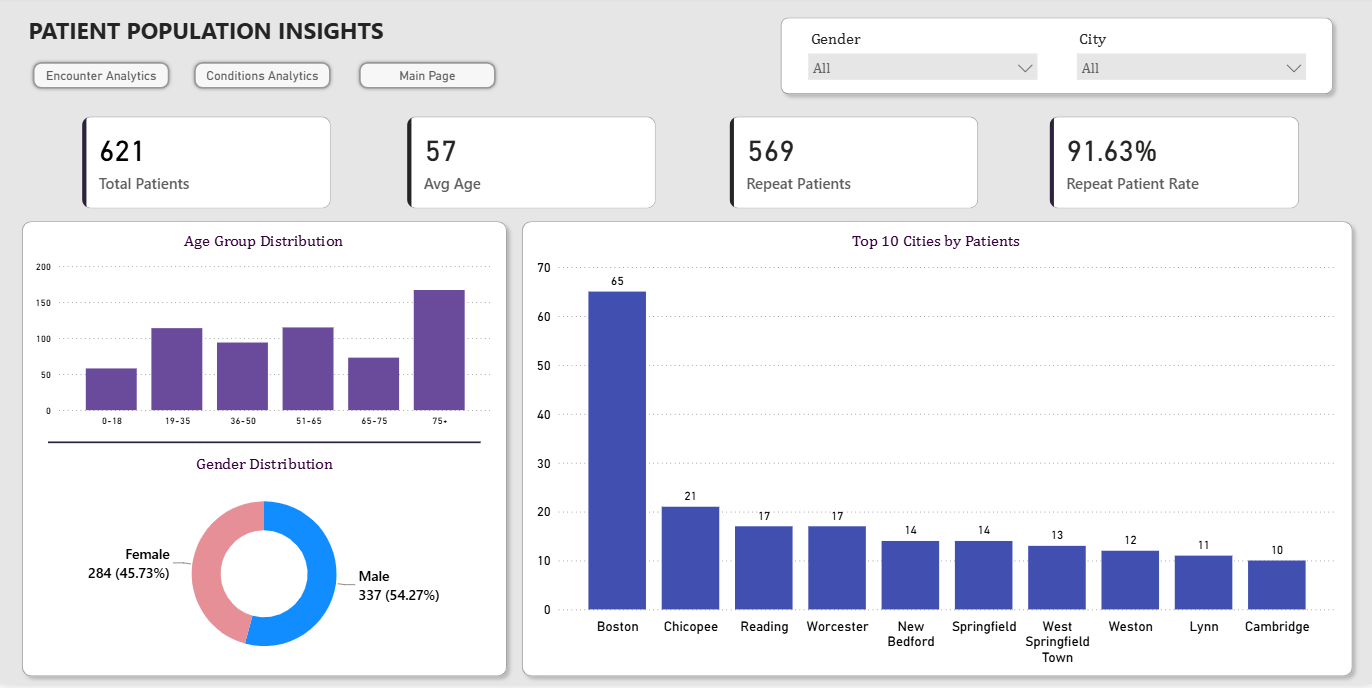

The page's visual inventory and layout, read from the dashboard file:
{"tool":"powerbi","page":{"name":"Patients","canvas":[1600,800],"ordinal":1},"visuals":[{"type":"cardVisual","fields":{"Data":["Measures_Table.Total Patients"]},"box":[93.1,135.3,299.6,117.8],"z":0},{"type":"actionButton","box":[37,72.7,167.2,39.2],"z":1000,"group":"g2"},{"type":"shape","box":[600.7,252.3,983.8,547.1],"z":1000},{"type":"actionButton","box":[225,72.7,167.2,39.2],"z":2000,"group":"g2"},{"type":"cardVisual","fields":{"Data":["Measures_Table.Avg Age"]},"box":[471.3,135,299.6,117.8],"z":2000},{"type":"shape","box":[901.4,15.7,660,107.1],"z":3000},{"type":"actionButton","box":[417,72.7,167.2,39.2],"z":3000,"group":"g2"},{"type":"shape","box":[18.9,252.3,581.8,547.1],"z":3000,"group":"g1"},{"type":"cardVisual","fields":{"Data":["Measures_Table.Repeat Patients"]},"box":[846.5,135.3,299.6,117.8],"z":4000},{"type":"slicer","fields":{"Values":["Patient.Gender"]},"box":[931.4,32.9,287.1,78.6],"z":5000},{"type":"cardVisual","fields":{"Data":["Measures_Table.Repeat Patient Rate"]},"box":[1218,135.2,300,117.7],"z":6000},{"type":"slicer","fields":{"Values":["Patient.City"]},"box":[1244.3,32.9,287.1,78.6],"z":7000},{"type":"clusteredColumnChart","title":"Age Group Distribution","fields":{"Category":["Age Group Bucket.Age Group"],"Y":["Measures_Table.Age-wise Patient Count"]},"box":[37.8,272.8,542.4,234.9],"z":8000,"group":"g1"},{"type":"clusteredColumnChart","title":"Top 10 Cities by Patients","fields":{"Category":["Patient.City"],"Y":["Measures_Table.Total Patients"]},"box":[620.6,273.3,940.4,511.6],"z":8000},{"type":"textbox","box":[30,15.7,850,70],"z":9000},{"type":"shape","box":[58.3,507.7,503,20.5],"z":9000,"group":"g1"},{"type":"group","id":"g1","title":"Group 2","box":[18.9,252.3,581.8,547.1],"z":10000},{"type":"donutChart","title":"Gender Distribution","fields":{"Category":["Patient.Gender"],"Y":["Measures_Table.Total Patients"]},"box":[39.4,531.4,540.8,252.3],"z":10000,"group":"g1"},{"type":"group","id":"g2","title":"Group 3","box":[37,72.7,547.2,39.2],"z":11000}]}

Visuals, with their boxes in screenshot pixels (x1, y1, x2, y2), scaled from the page's 1600x800 canvas onto the 1372x688 screenshot:
cardVisual - Measures_Table.Total Patients: crop(80, 116, 337, 218)
actionButton: crop(32, 63, 175, 96)
shape: crop(515, 217, 1359, 687)
actionButton: crop(193, 63, 336, 96)
cardVisual - Measures_Table.Avg Age: crop(404, 116, 661, 217)
shape: crop(773, 14, 1339, 106)
actionButton: crop(358, 63, 501, 96)
shape: crop(16, 217, 515, 687)
cardVisual - Measures_Table.Repeat Patients: crop(726, 116, 983, 218)
slicer - Patient.Gender: crop(799, 28, 1045, 96)
cardVisual - Measures_Table.Repeat Patient Rate: crop(1044, 116, 1302, 217)
slicer - Patient.City: crop(1067, 28, 1313, 96)
"Age Group Distribution" clusteredColumnChart: crop(32, 235, 498, 437)
"Top 10 Cities by Patients" clusteredColumnChart: crop(532, 235, 1339, 675)
textbox: crop(26, 14, 755, 74)
shape: crop(50, 437, 481, 454)
"Group 2" group: crop(16, 217, 515, 687)
"Gender Distribution" donutChart: crop(34, 457, 498, 674)
"Group 3" group: crop(32, 63, 501, 96)
